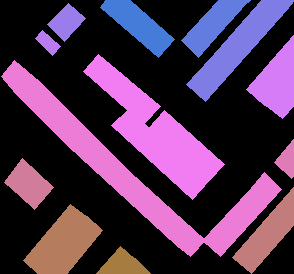parkingspot: (1, 60, 205, 256), (186, 0, 294, 101), (111, 109, 208, 199), (202, 172, 281, 256), (148, 110, 224, 182), (232, 186, 294, 273), (83, 54, 160, 124), (23, 204, 87, 274), (100, 0, 174, 57), (181, 0, 250, 57), (37, 216, 102, 274), (246, 34, 294, 105), (264, 68, 294, 118), (47, 3, 85, 41), (4, 158, 39, 196), (19, 173, 53, 209), (96, 246, 136, 274), (274, 138, 294, 178), (35, 30, 60, 55), (122, 258, 150, 274)
